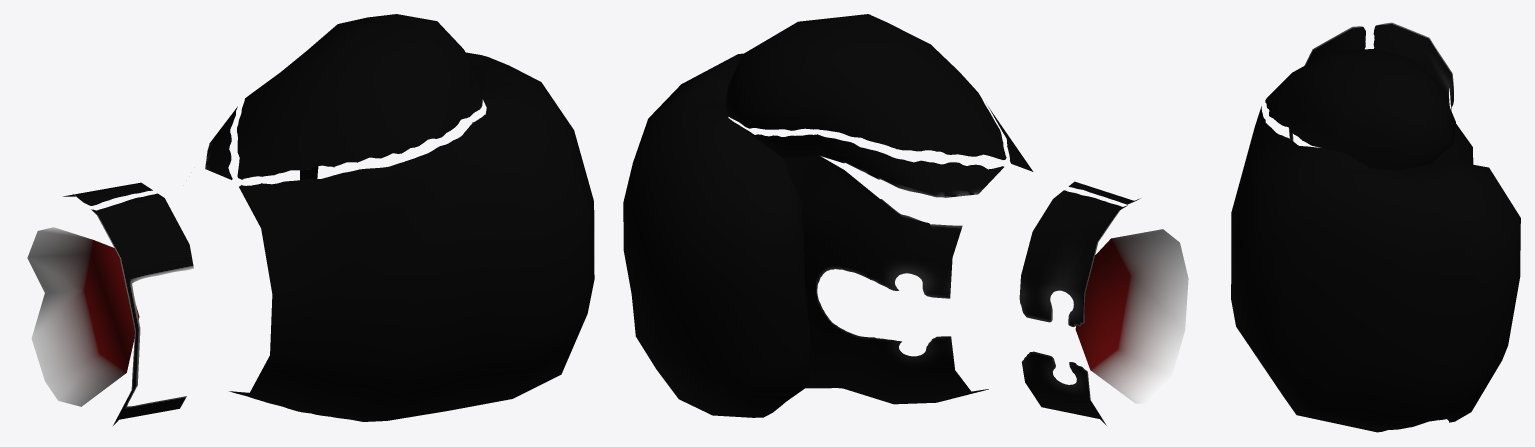
The model's file is box_glove__box_glove_R.glb.
The picture shows the model from 3 angles, left to right: view 1: azimuth 30°, elevation 25°; view 2: azimuth 150°, elevation 25°; view 3: azimuth 270°, elevation 25°; orthographic projection. The views are drawn at different scales.
Visible parts, largest first — view 1: polygon0, polygon1; view 2: polygon0, polygon1; view 3: polygon0.
Boxes of the visible parts, box(x1,y1,x2,y2) form: polygon0: box(63, 14, 594, 426); polygon1: box(27, 227, 139, 406); polygon0: box(623, 14, 1140, 425); polygon1: box(1075, 229, 1188, 403); polygon0: box(1231, 22, 1520, 432).
Size of the model in its own units: 4.22 by 3.07 by 2.46.
2 materials, 1 textured.
